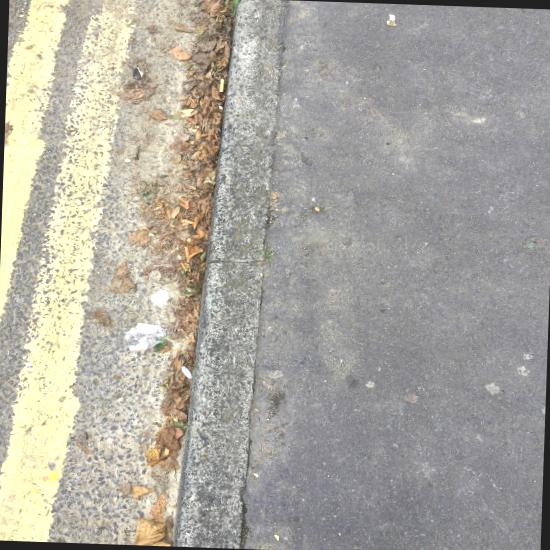Cigarette: (219, 79, 224, 92)
Plastic film: (123, 323, 166, 350)
Unlabeled litter: (151, 290, 169, 308)
